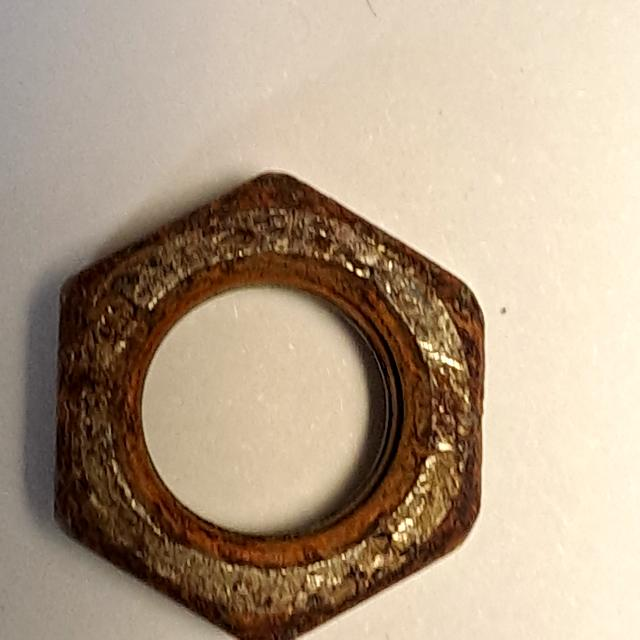Rust: (40, 153, 499, 640)
